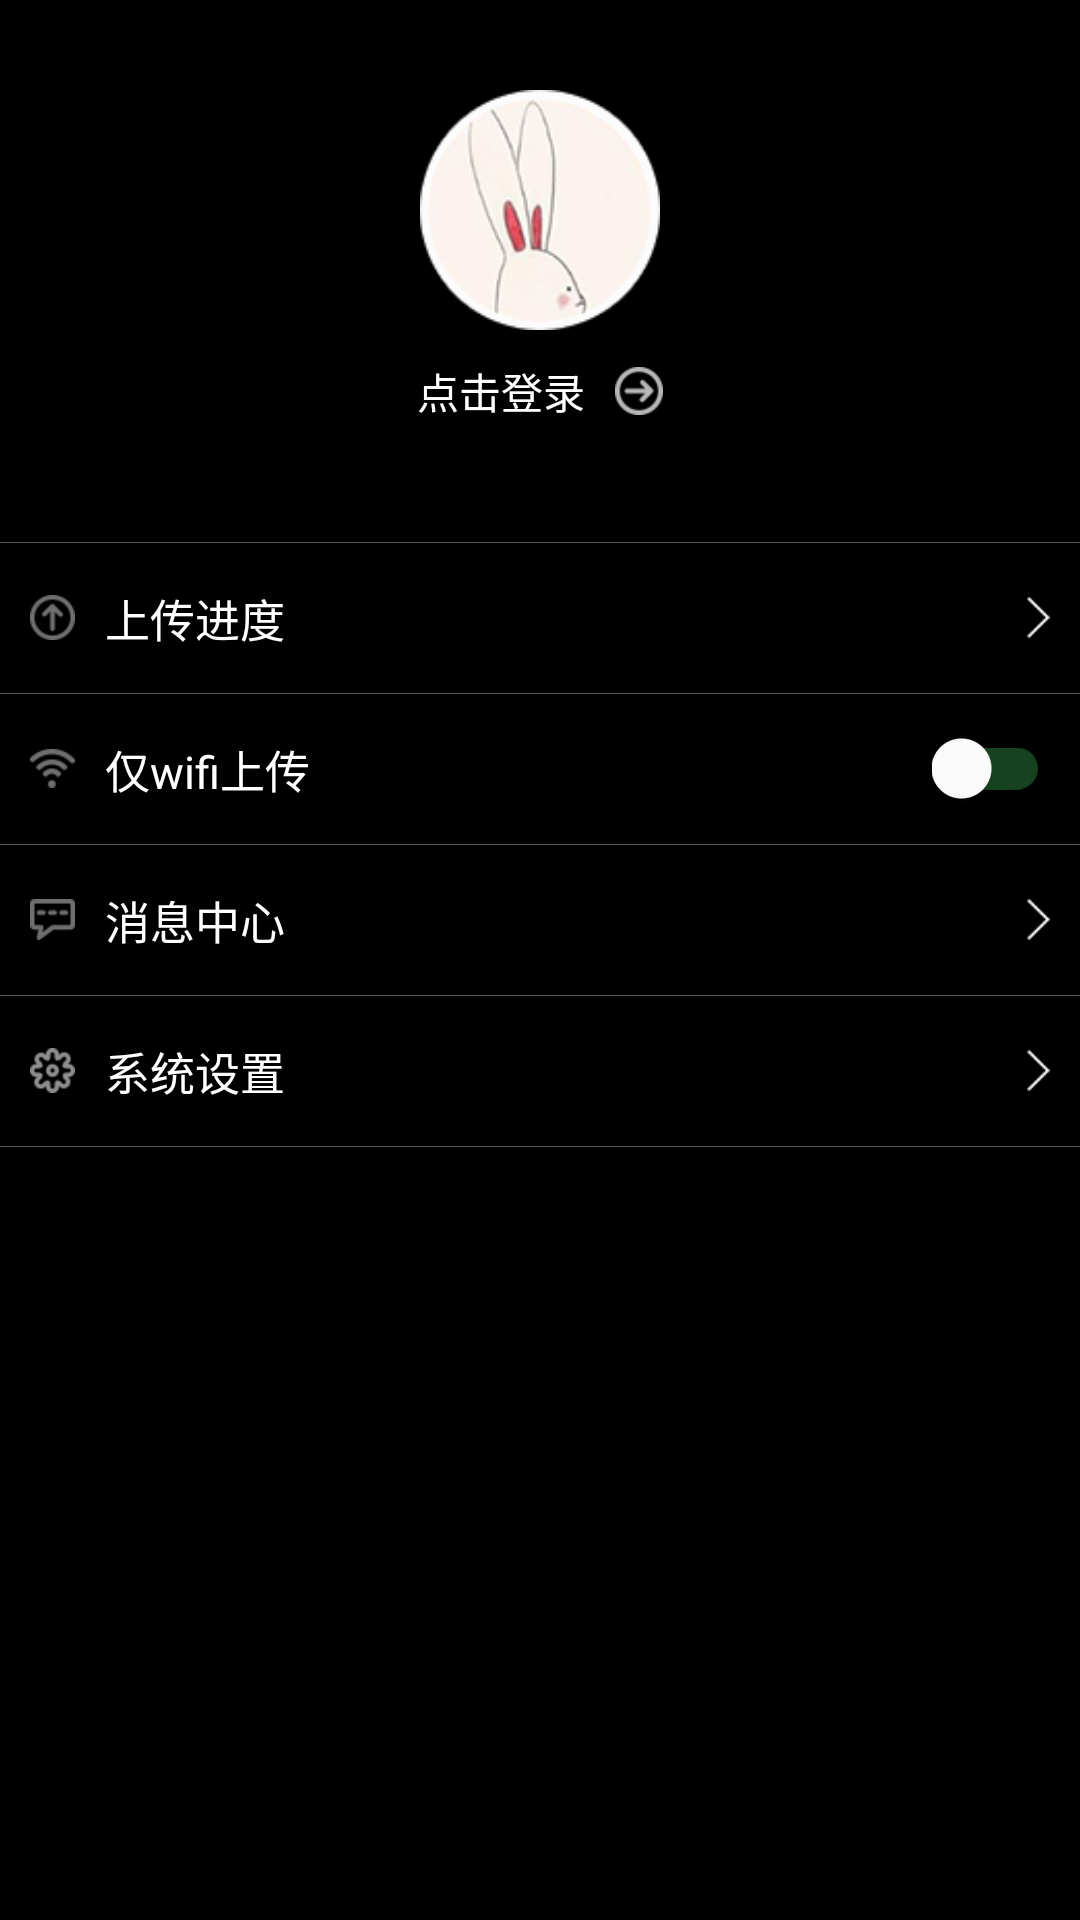

Named icons in this screenshot (1080*1920) and their bounding boxes, (x1, y1, x2, y2):
pc head pic: (420, 90, 660, 330)
